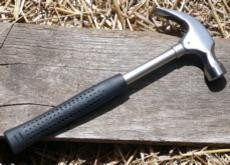hammer: (2, 4, 226, 155)
